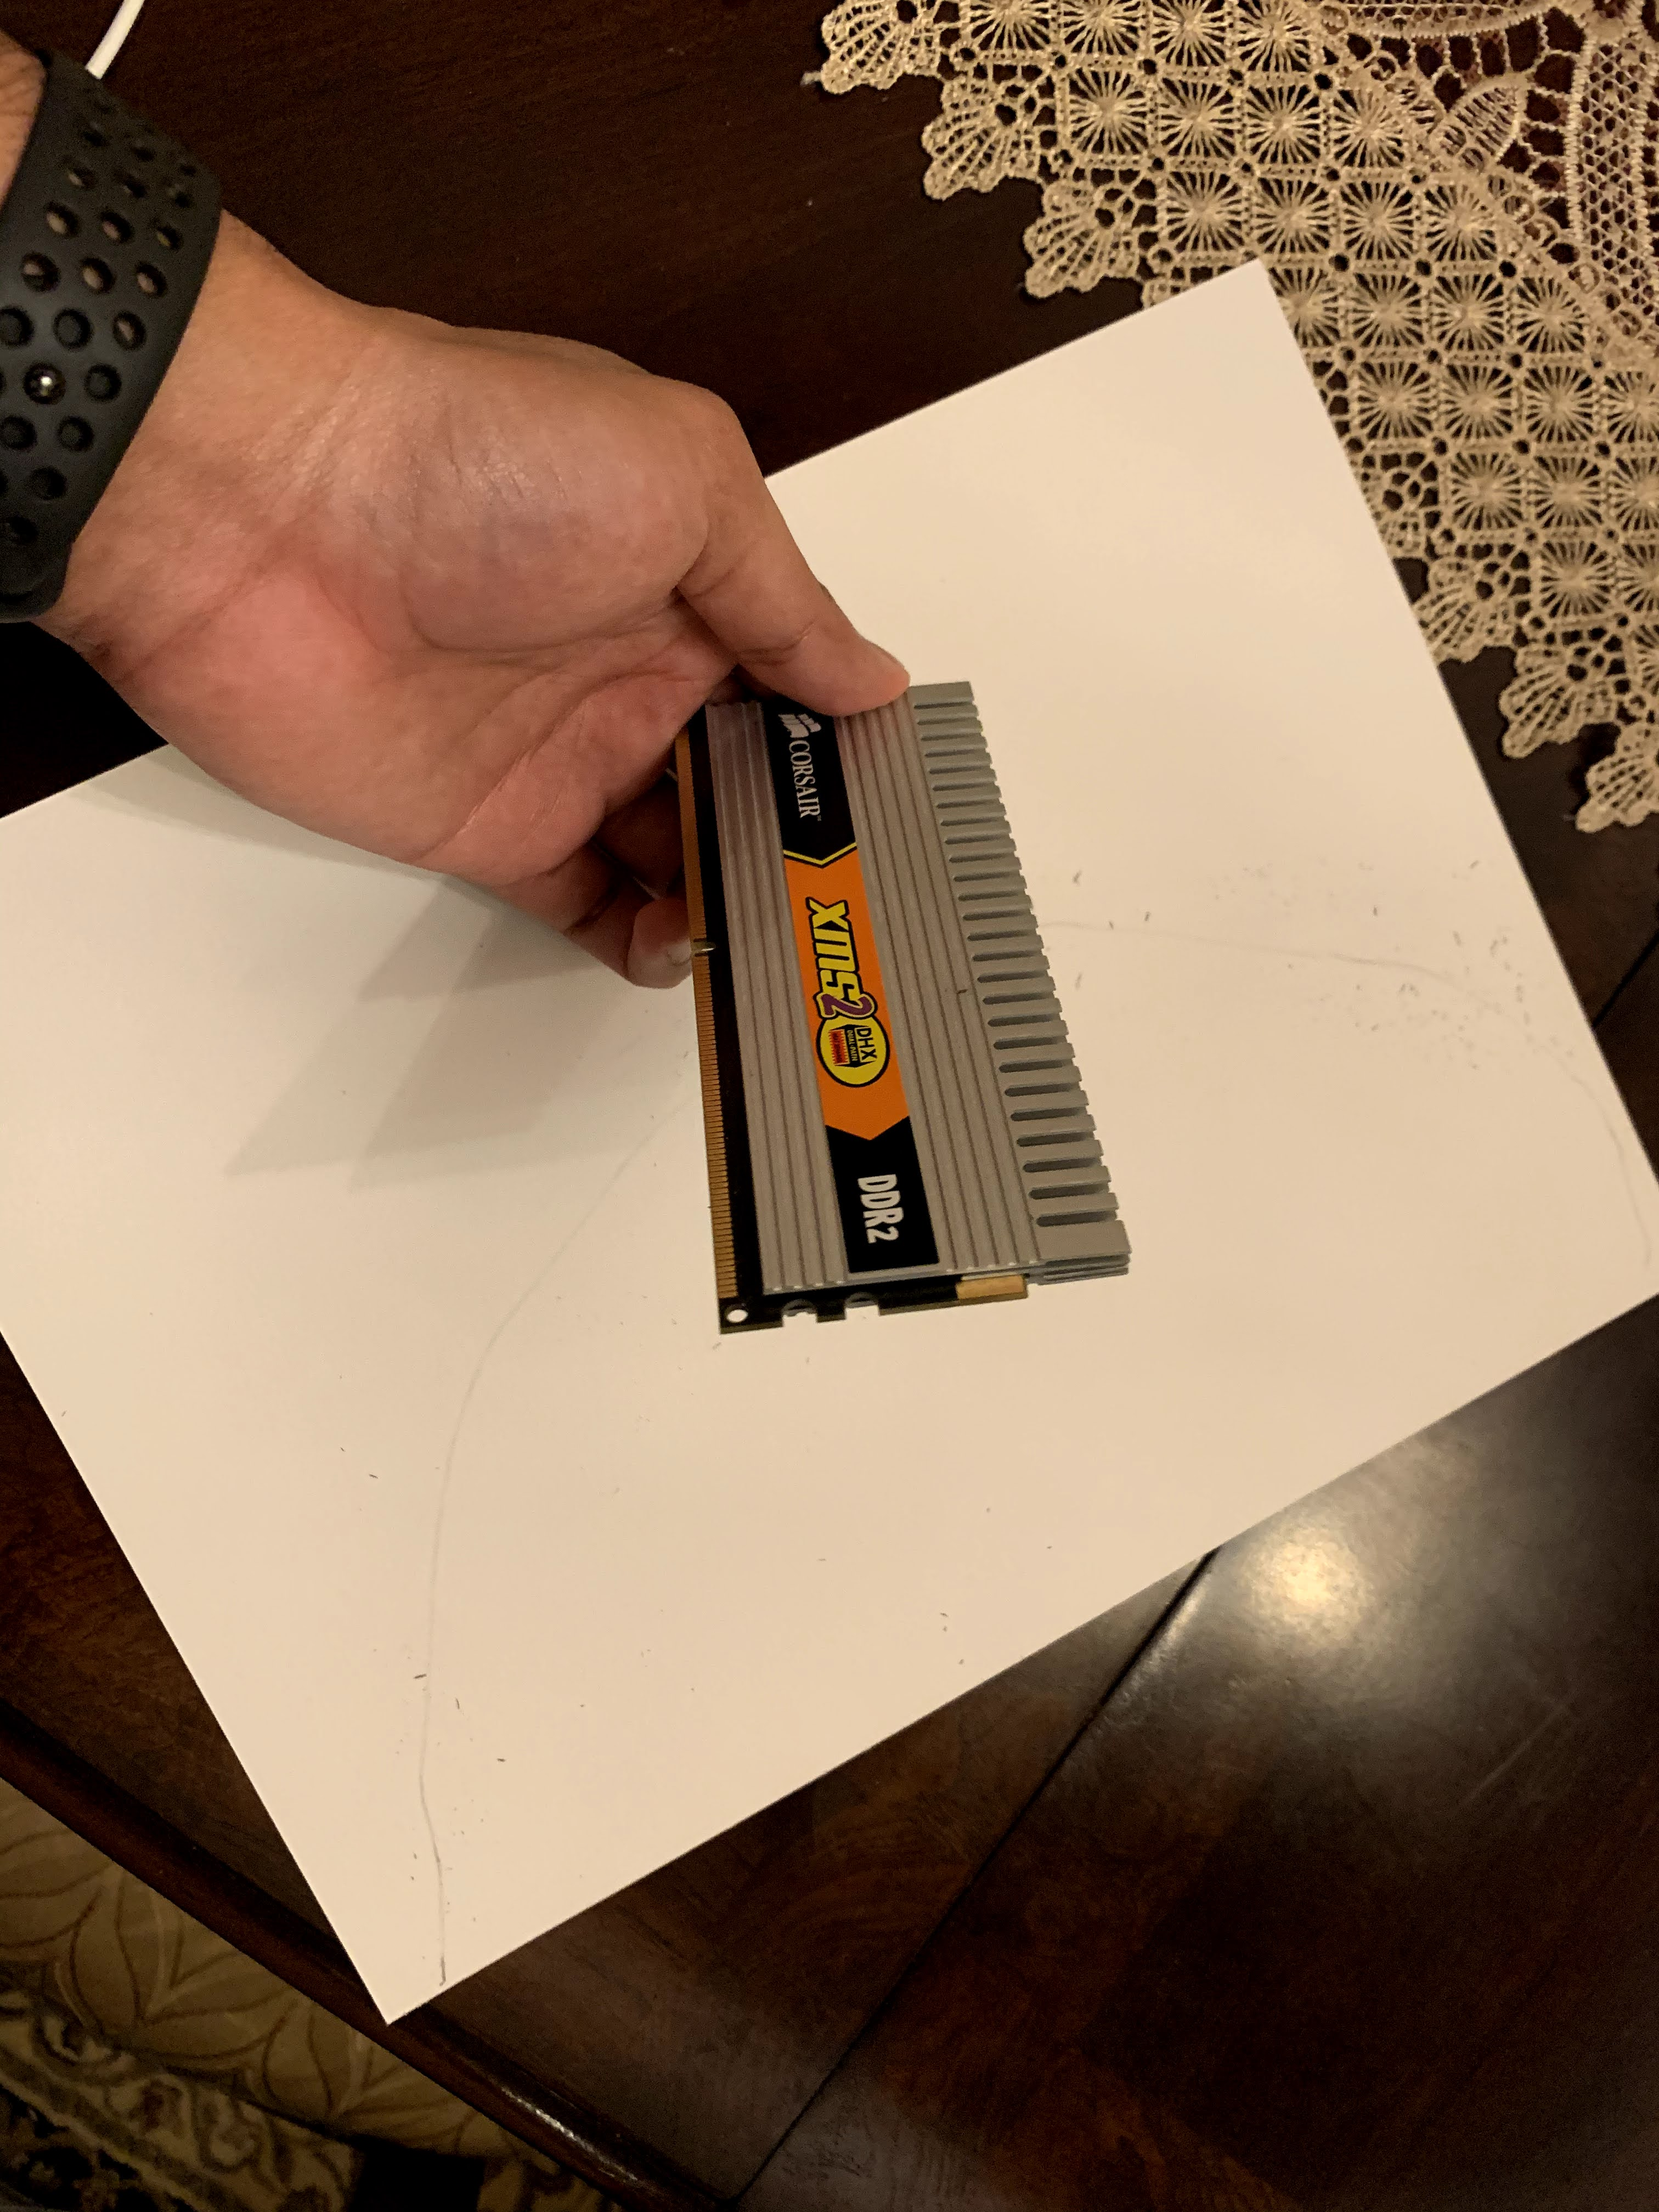Space-debris-medium: (664, 672, 1157, 1360)
